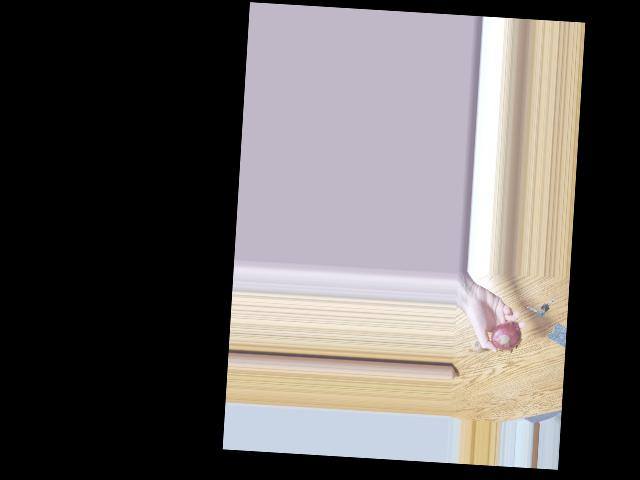onion: (465, 333, 485, 354)
